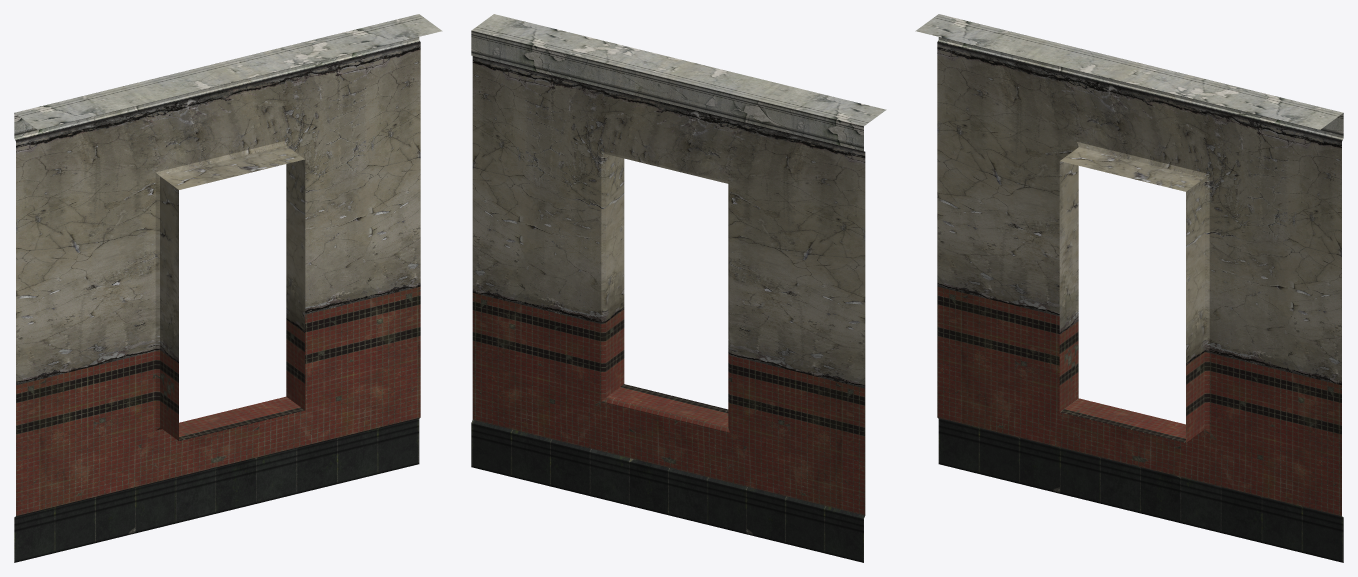
The model's file is urban_damaged_window_wall.dae.
3 views of the same model, side by side, from view 1: azimuth 30°, elevation 25°; view 2: azimuth 150°, elevation 25°; view 3: azimuth 330°, elevation 25° (orthographic). The views are drawn at different scales.
Visible parts, largest first — view 1: polySurface792, polySurface794, polySurface795, polySurface793; view 2: polySurface792, polySurface794, polySurface795, polySurface793; view 3: polySurface792, polySurface794, polySurface795, polySurface793.
Part boxes in pixels (box(x1,y1,x2,y2)): polySurface792: box(16, 42, 420, 385); polySurface794: box(16, 286, 420, 515); polySurface795: box(14, 417, 419, 562); polySurface793: box(14, 14, 442, 140); polySurface792: box(472, 56, 865, 388); polySurface794: box(472, 293, 865, 515); polySurface795: box(471, 420, 864, 562); polySurface793: box(471, 14, 886, 151); polySurface792: box(937, 42, 1341, 385); polySurface794: box(937, 286, 1341, 515); polySurface795: box(938, 417, 1343, 562); polySurface793: box(915, 14, 1343, 140).
Size of the model in its own units: 4 by 4.25 by 0.4006.
